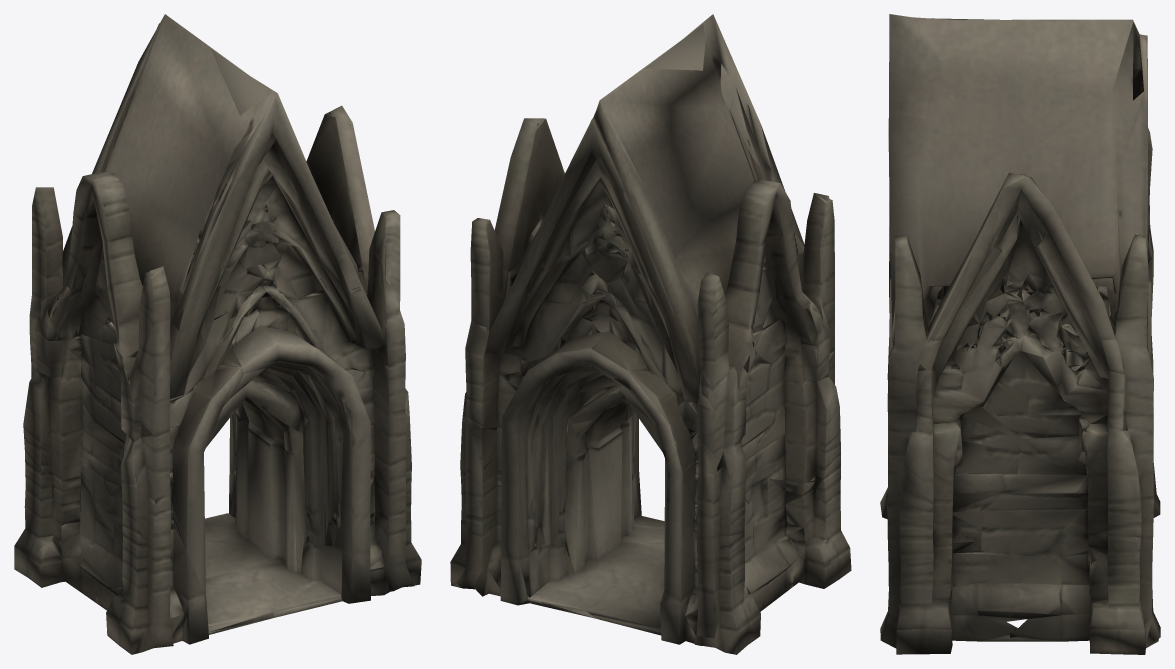
Rendered from tower-doorway.glb.
The picture shows the model from 3 angles, left to right: view 1: azimuth 30°, elevation 25°; view 2: azimuth 150°, elevation 25°; view 3: azimuth 270°, elevation 25°; orthographic projection. The views are drawn at different scales.
Visible parts, largest first — view 1: tower_doorway; view 2: tower_doorway; view 3: tower_doorway.
Part boxes in pixels (<box>): tower_doorway: <box>14,14,421,654</box>; tower_doorway: <box>450,14,851,654</box>; tower_doorway: <box>880,14,1160,654</box>.
Bounding box in the file's own units: 3.45 × 6.01 × 2.7.
Materials: 1 (1 with a texture image).
